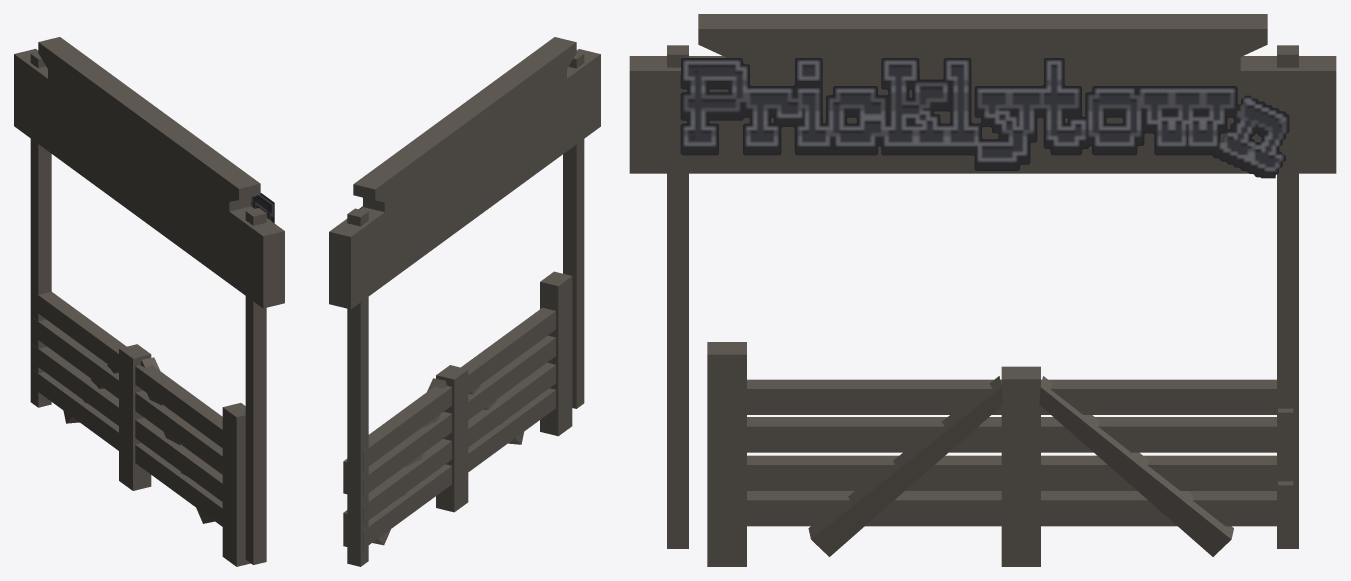
The model's file is exitDoor.fbx.
3 renders of one model, left to right at view 1: azimuth 30°, elevation 25°; view 2: azimuth 150°, elevation 25°; view 3: azimuth 270°, elevation 25°, orthographic. The views are drawn at different scales.
Visible parts, largest first — view 1: Cube.006, Plane; view 2: Cube.006; view 3: Cube.006, Plane.
Part boxes in pixels (box(x1,y1,x2,y2)): Cube.006: box(14, 37, 284, 566); Plane: box(251, 193, 274, 223); Cube.006: box(329, 37, 600, 566); Cube.006: box(629, 14, 1336, 566); Plane: box(680, 58, 1289, 178).
Size of the model in its own units: 85.82 by 1062 by 1251.
